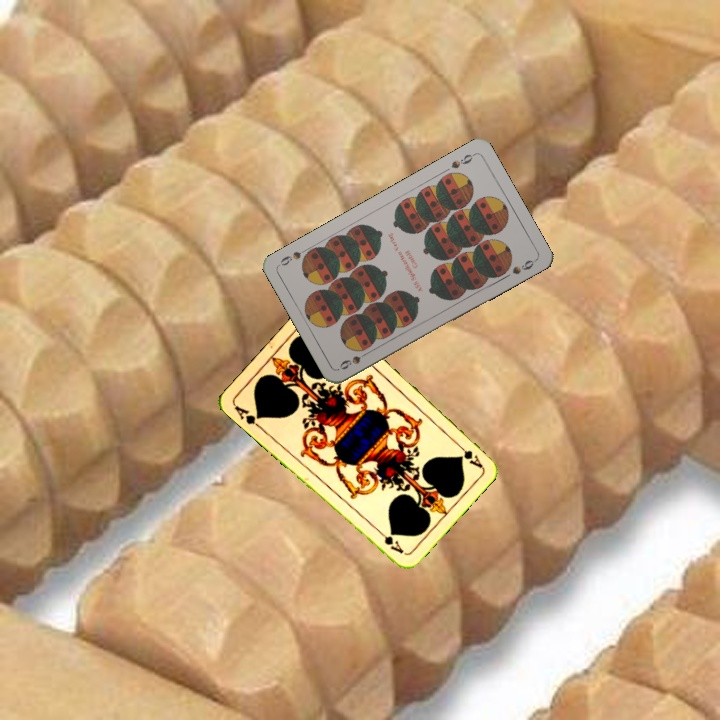GA: (230, 401, 265, 432), (452, 438, 485, 470)
S9: (335, 347, 373, 372), (447, 149, 478, 171)
